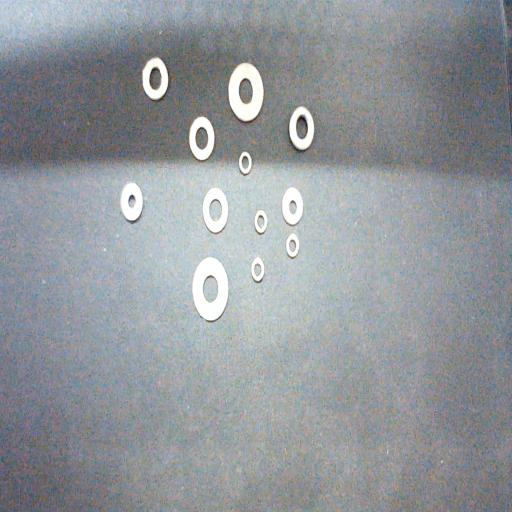washer: (193, 256, 228, 322), (228, 62, 264, 122), (203, 187, 228, 233), (189, 116, 214, 161), (290, 106, 314, 151), (143, 57, 168, 100), (282, 186, 303, 226), (121, 182, 143, 220), (251, 257, 265, 282), (254, 210, 268, 234), (286, 233, 299, 258), (239, 151, 252, 175)
